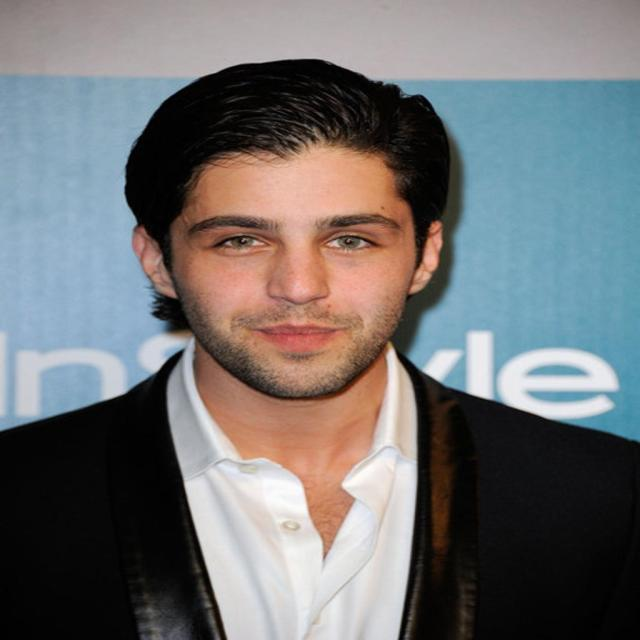Face: (151, 140, 459, 396)
